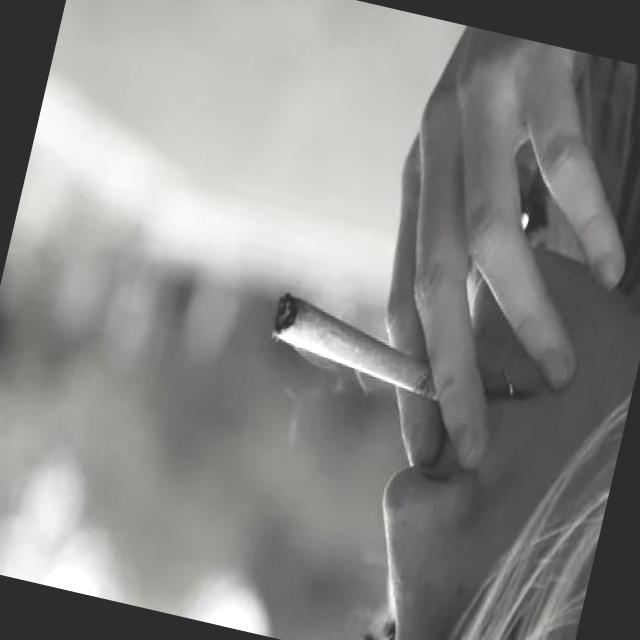smoke: (259, 286, 463, 412)
